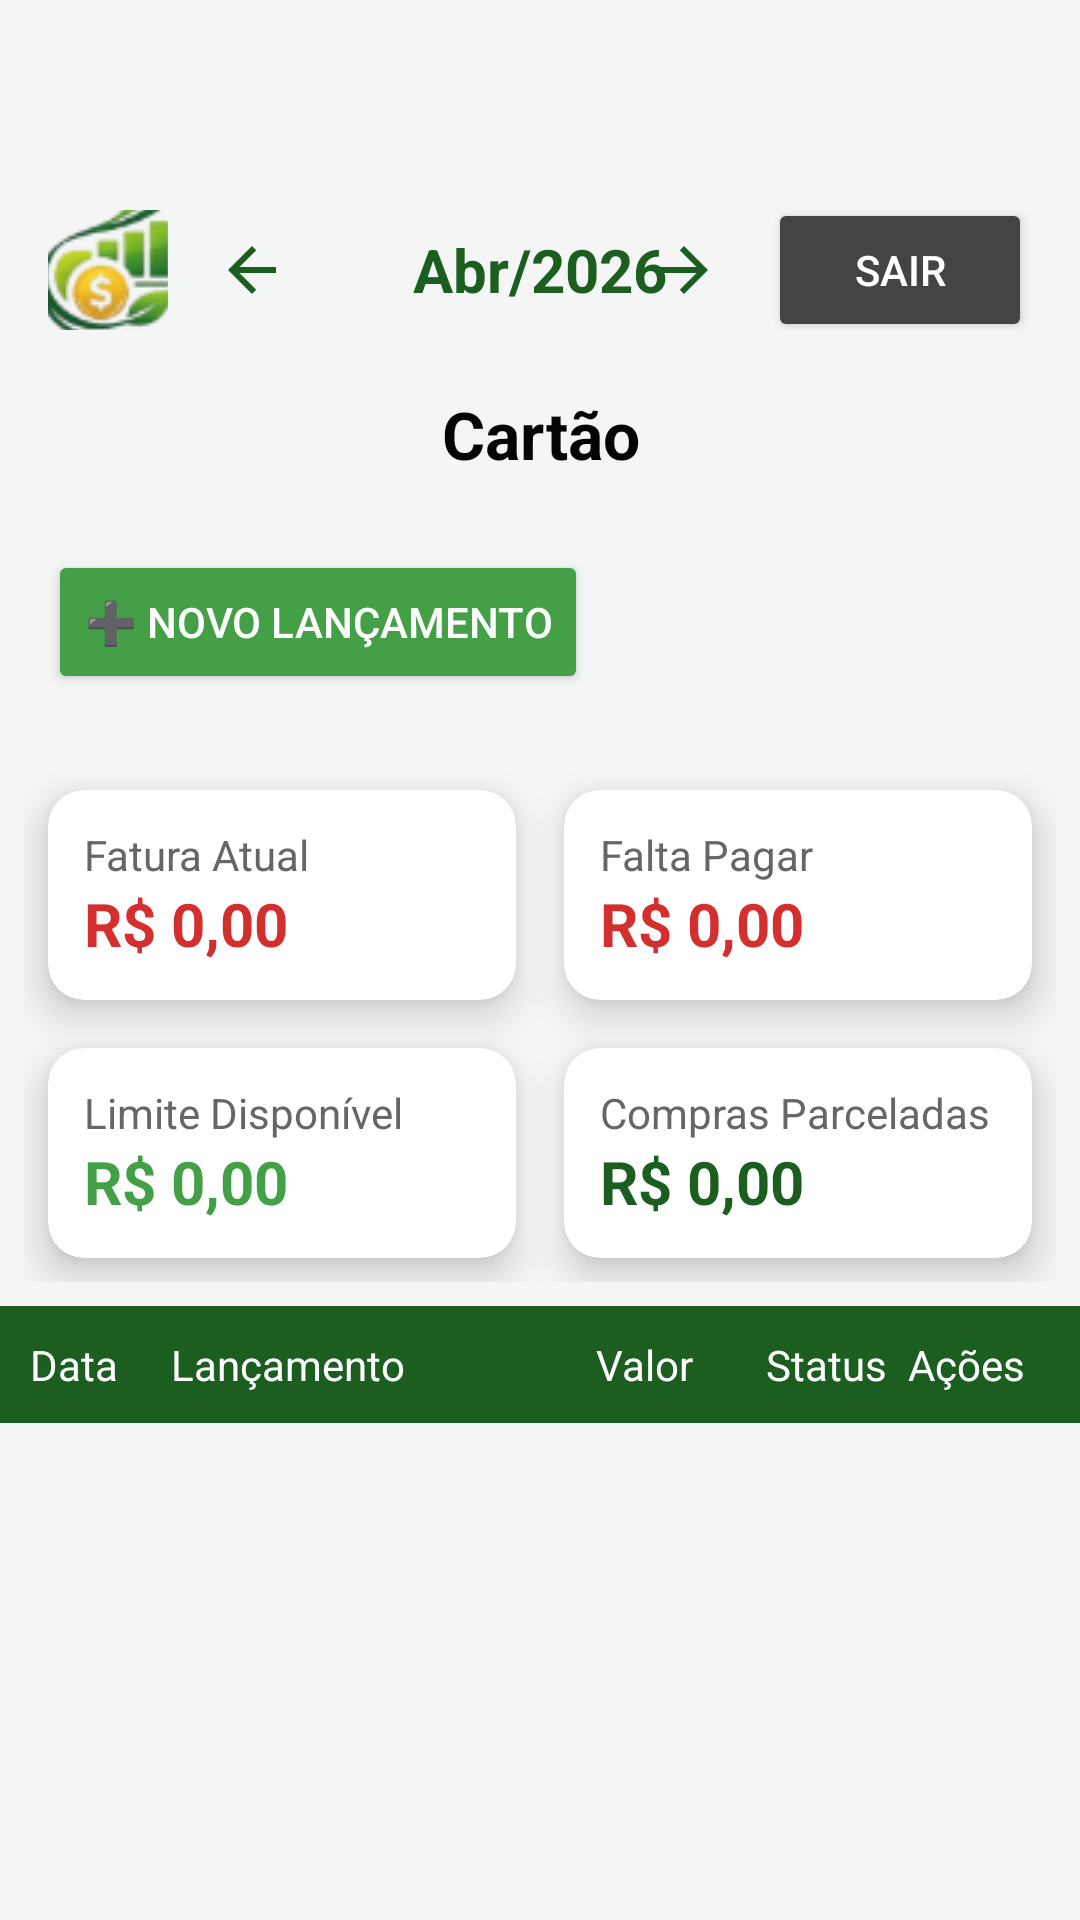

Screen size 1080px×1920px. Icon name, then its box in pixels as (x1, y1, x2, y2):
arrow back: (228, 246, 276, 294)
